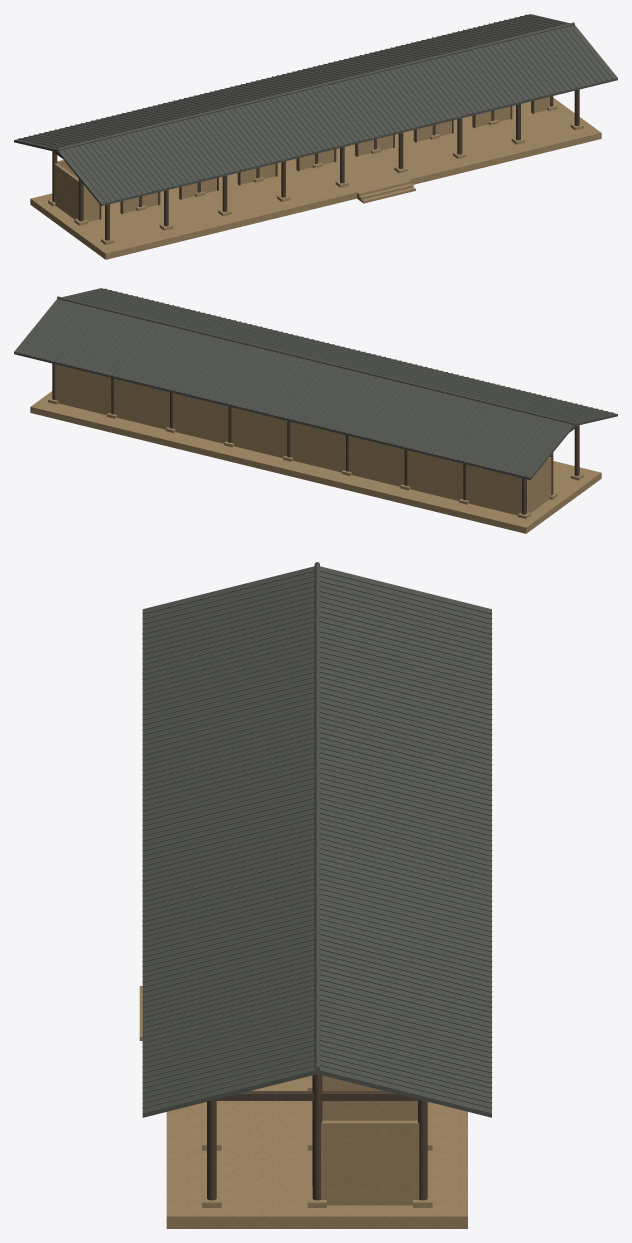
File: sidehall-A-LOD0.glb
The picture shows the model from 3 angles, top to bottom: view 1: azimuth 30°, elevation 25°; view 2: azimuth 150°, elevation 25°; view 3: azimuth 270°, elevation 25°; orthographic projection. The views are drawn at different scales.
Visible parts, largest first — view 1: sidehall-A-static_tile, sidehall-A-static_earth, sidehall-A-static_timber; view 2: sidehall-A-static_tile, sidehall-A-static_earth, sidehall-A-static_timber; view 3: sidehall-A-static_tile, sidehall-A-static_earth, sidehall-A-static_timber.
Boxes of the visible parts, left/top/right/bottom form: sidehall-A-static_tile: left=14, top=14, right=617, bottom=205; sidehall-A-static_earth: left=30, top=97, right=601, bottom=259; sidehall-A-static_timber: left=52, top=89, right=579, bottom=240; sidehall-A-static_tile: left=14, top=288, right=617, bottom=479; sidehall-A-static_earth: left=30, top=364, right=601, bottom=533; sidehall-A-static_timber: left=52, top=363, right=579, bottom=514; sidehall-A-static_tile: left=142, top=562, right=492, bottom=1117; sidehall-A-static_earth: left=139, top=986, right=467, bottom=1228; sidehall-A-static_timber: left=207, top=1074, right=427, bottom=1200.
Bounding box in the file's own units: 39.6 × 6.33 × 11.71.
3 materials, 3 textured.
